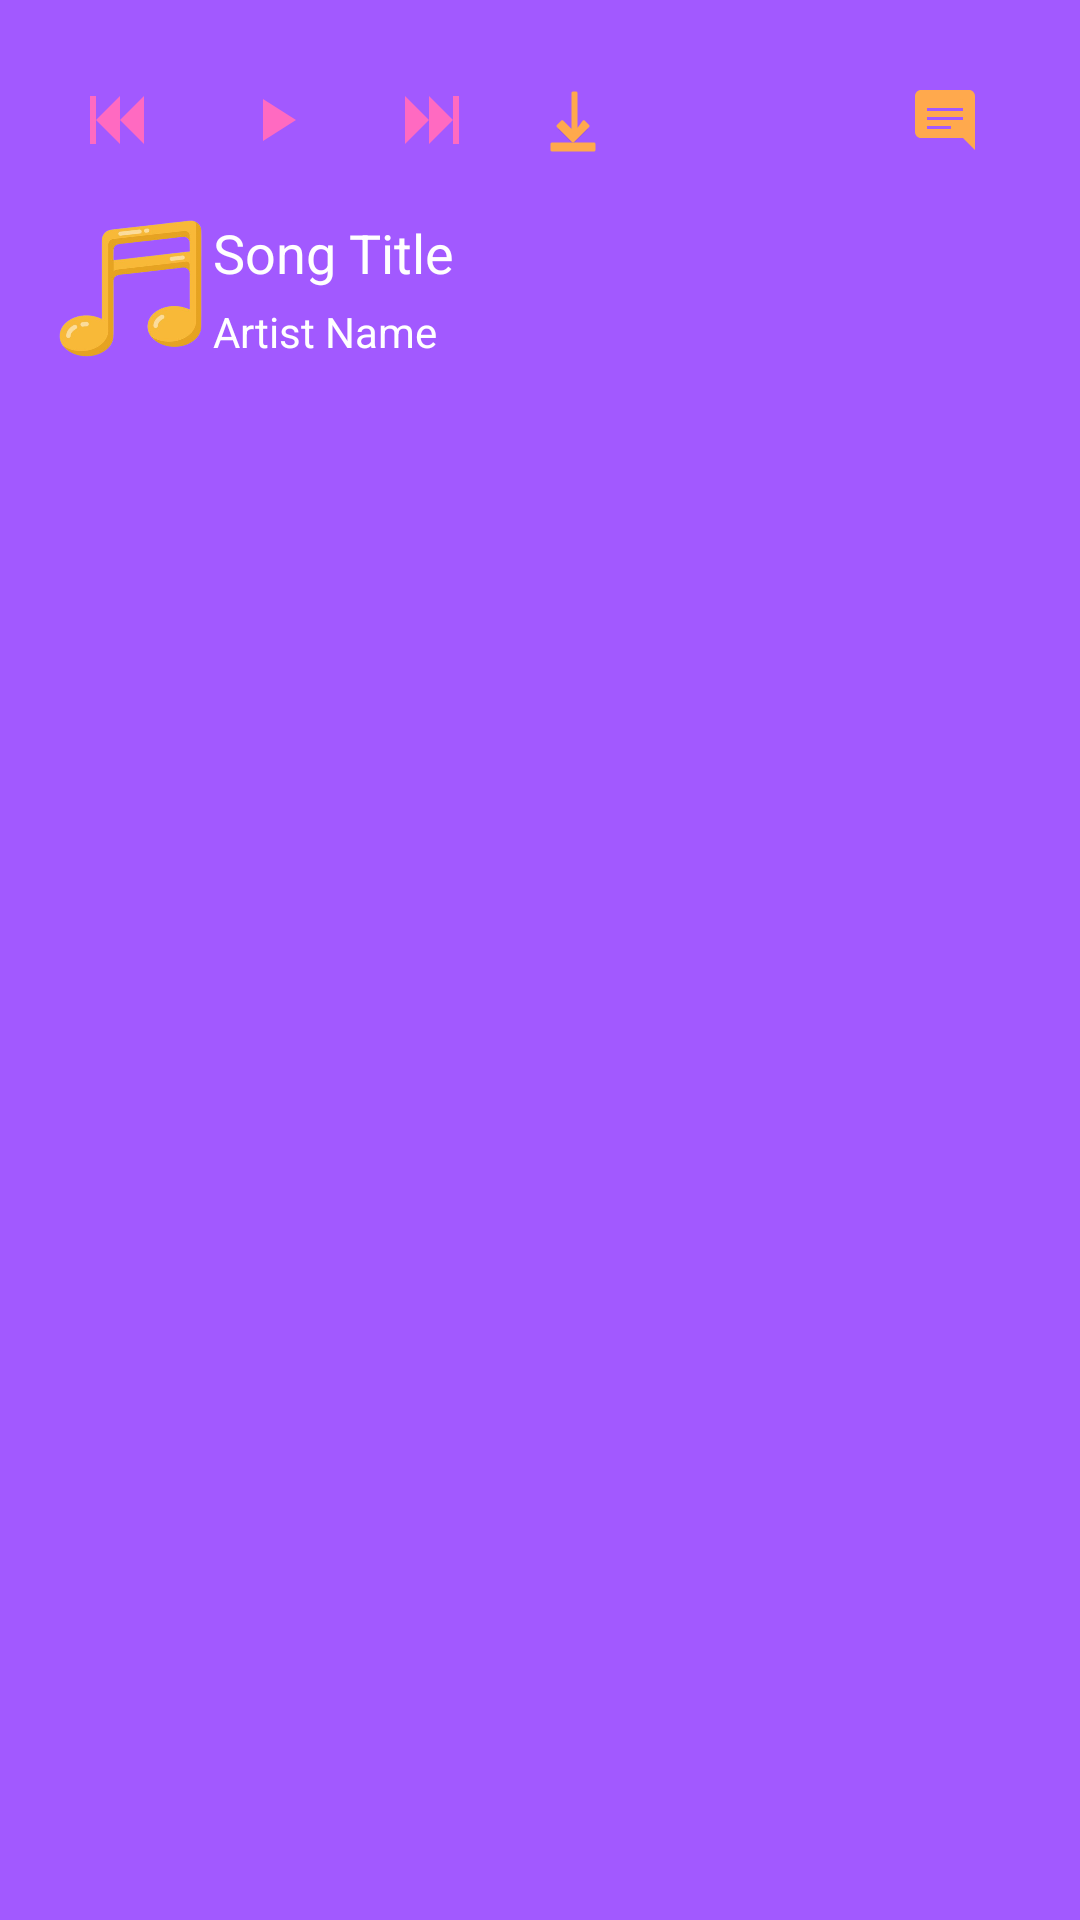

Where to tap for icons on this 1080 × 1920 app screen, as (x,y):
Back: (117,120)
Comments: (945,120)
Download: (573,121)
Next: (432,120)
Play/Pause: (279,120)
